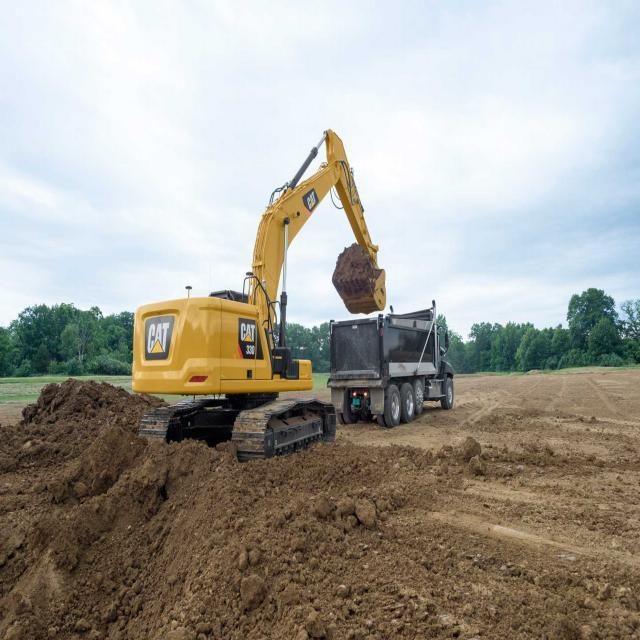excavator: (126, 132, 369, 415)
